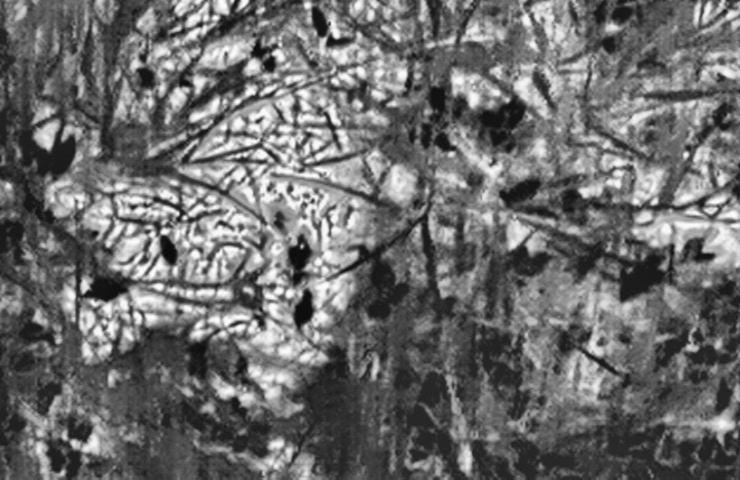landmines: (67, 75, 376, 387)
